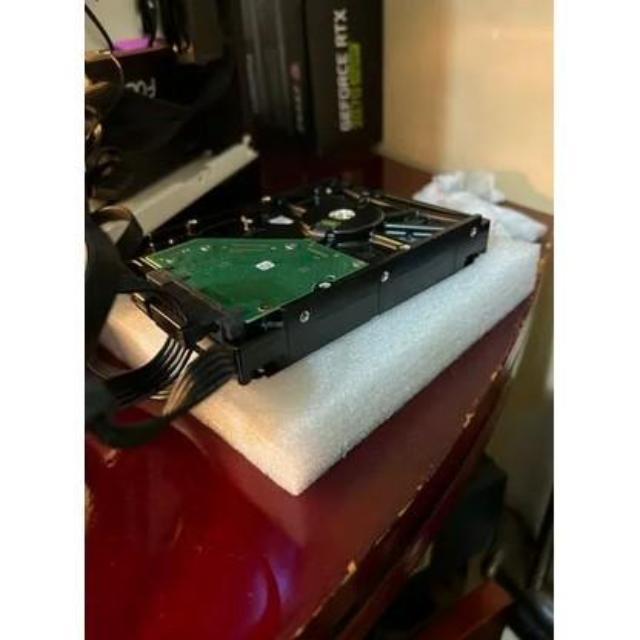DISK: (147, 186, 496, 366)
